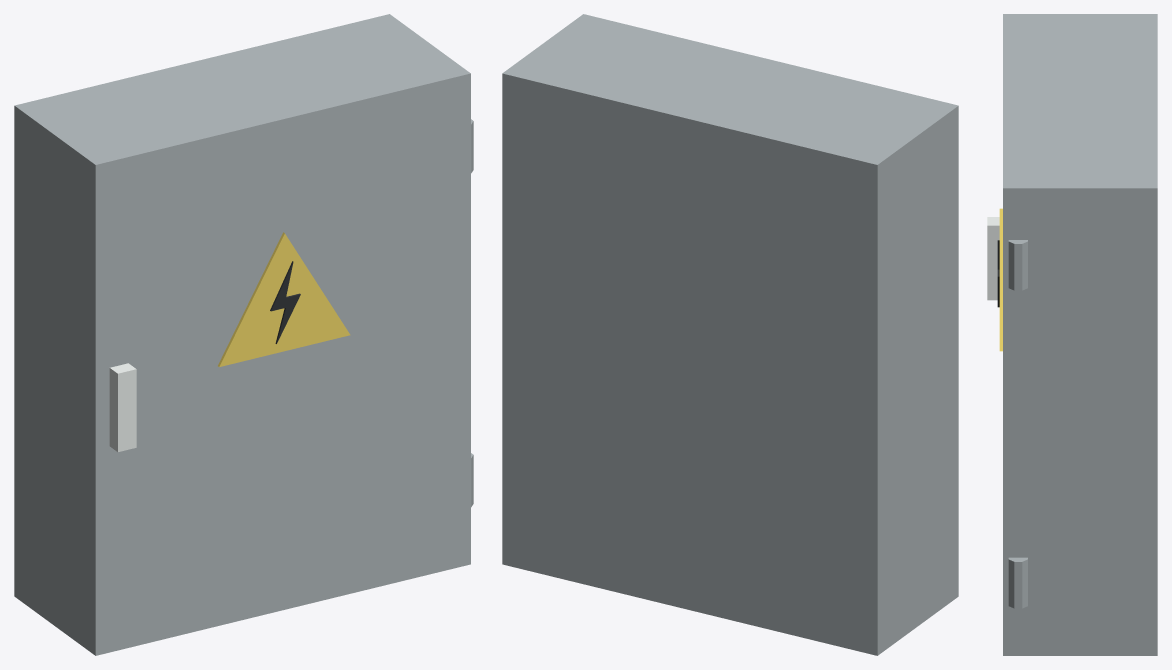
Rendered from fuse_box.glb.
3 views of the same model, side by side, from view 1: azimuth 30°, elevation 25°; view 2: azimuth 150°, elevation 25°; view 3: azimuth 270°, elevation 25° (orthographic). The views are drawn at different scales.
Parts seen in each view (by area): view 1: door, box; view 2: box, door; view 3: box, door.
Boxes of the visible parts, x1=… form: door: x1=85, y1=65, x2=470, y2=655; box: x1=14, y1=14, x2=473, y2=647; box: x1=502, y1=22, x2=947, y2=655; door: x1=573, y1=14, x2=958, y2=603; box: x1=1008, y1=14, x2=1157, y2=655; door: x1=987, y1=14, x2=1023, y2=655.
Size of the model in its own units: 0.4092 by 0.5 by 0.165.
